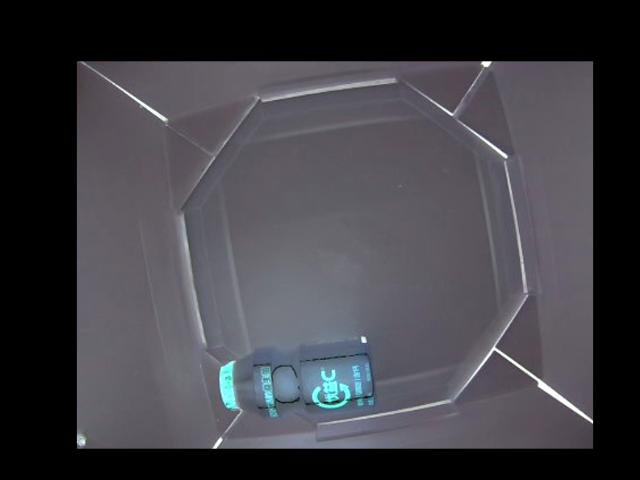Bottle: (214, 338, 379, 417)
